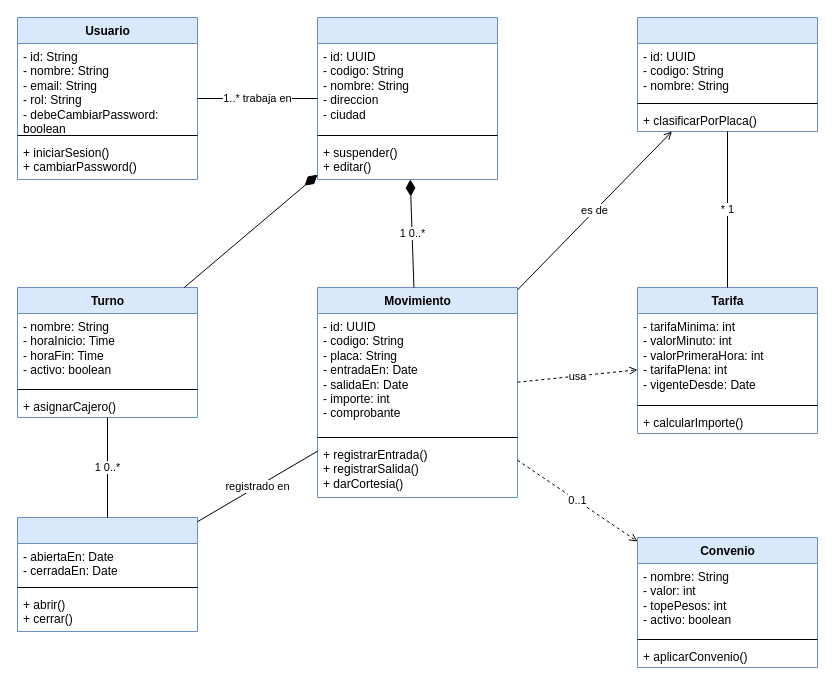
This 835x688 diagram has some shape labels left out. Here are the shapes that lost their labels. From the top down, the box of each, then its label:
(636, 16, 818, 132): TipoVehiculo
(316, 16, 498, 180): Parqueadero
(16, 516, 198, 632): SesionTurno
